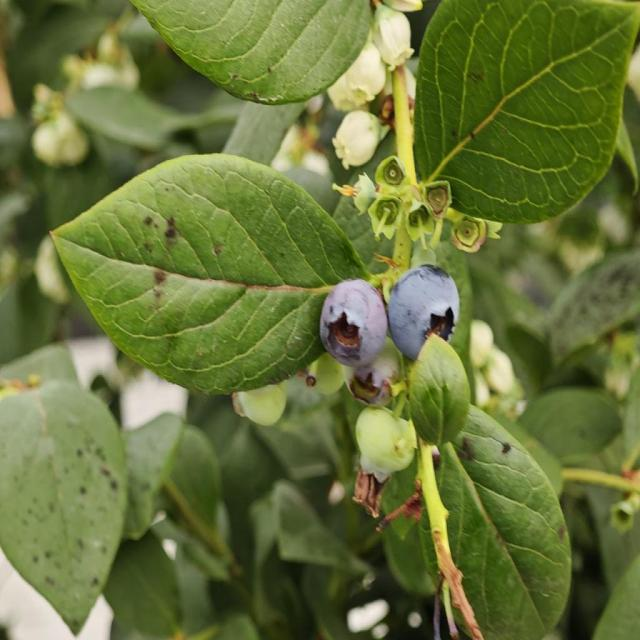RipeBlueBerry: (386, 262, 464, 358), (316, 278, 388, 366)
UnripeBlueBerry: (351, 402, 420, 478)
